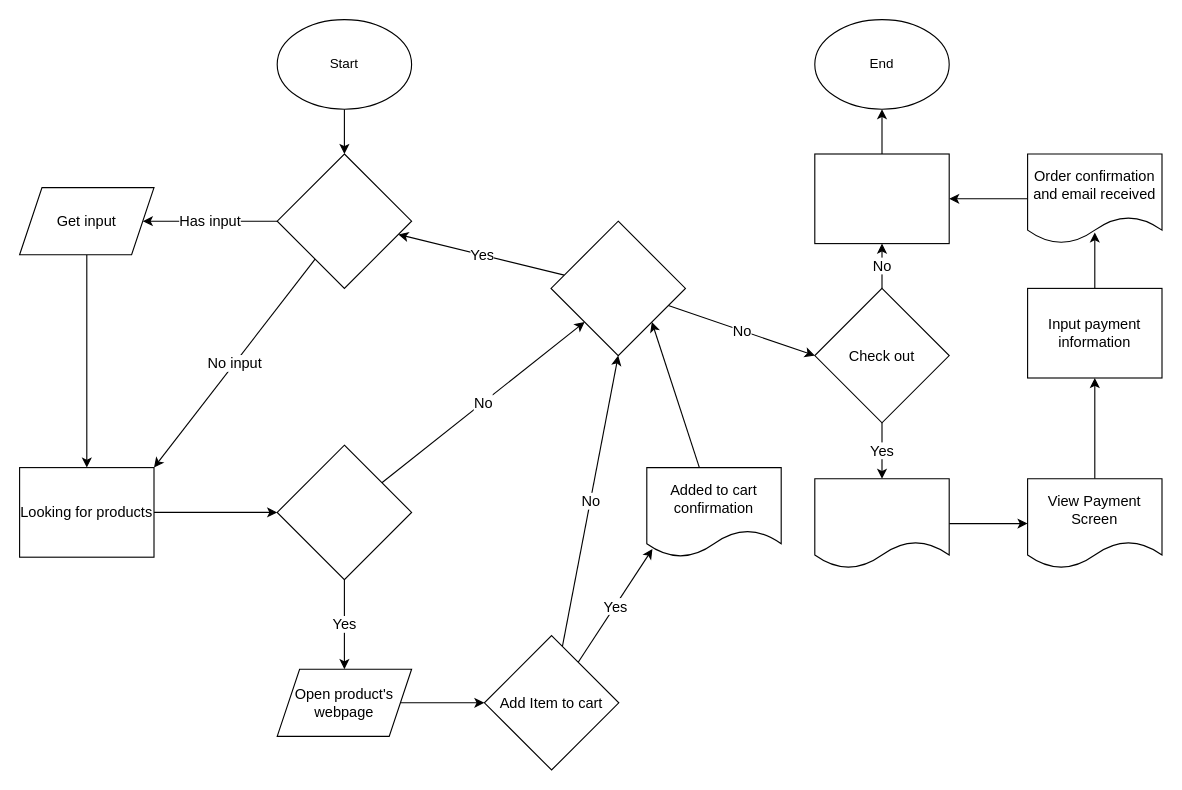
Some shapes in this 1182 by 790 pixel diagram are drawn without their labels. The centre of each missing label's shape, as x and y in pixels:
"Continue Shopping" goes at [617,288].
"Leave the website" goes at [881,198].
"Searching or Exploring" goes at [344,220].
"View Cart Screen" goes at [881,523].
"View Specific Product" goes at [344,512].
